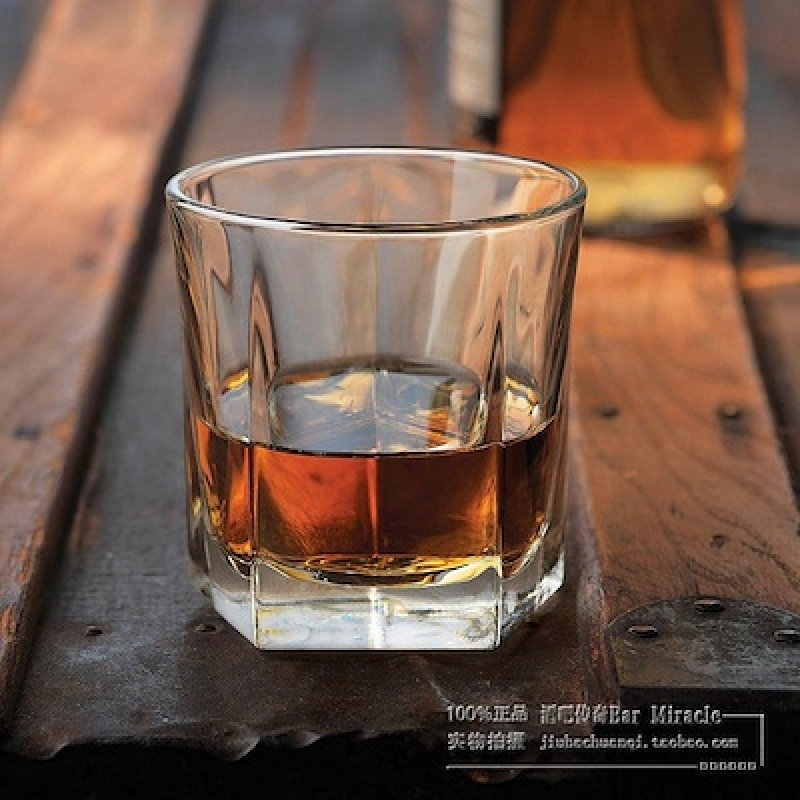whiskey: (159, 144, 606, 657)
